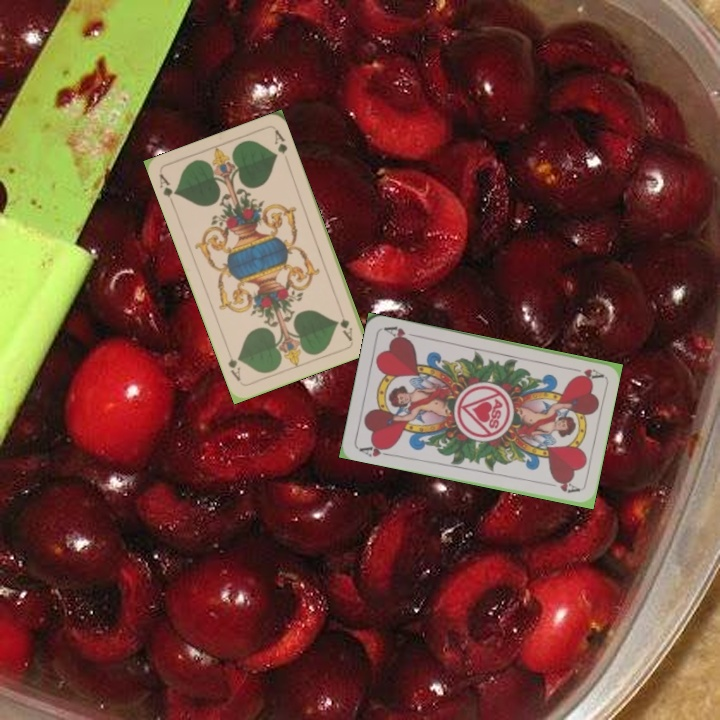GA: (155, 170, 180, 209), (335, 304, 355, 344)
HA: (355, 439, 396, 459), (564, 363, 604, 381)
